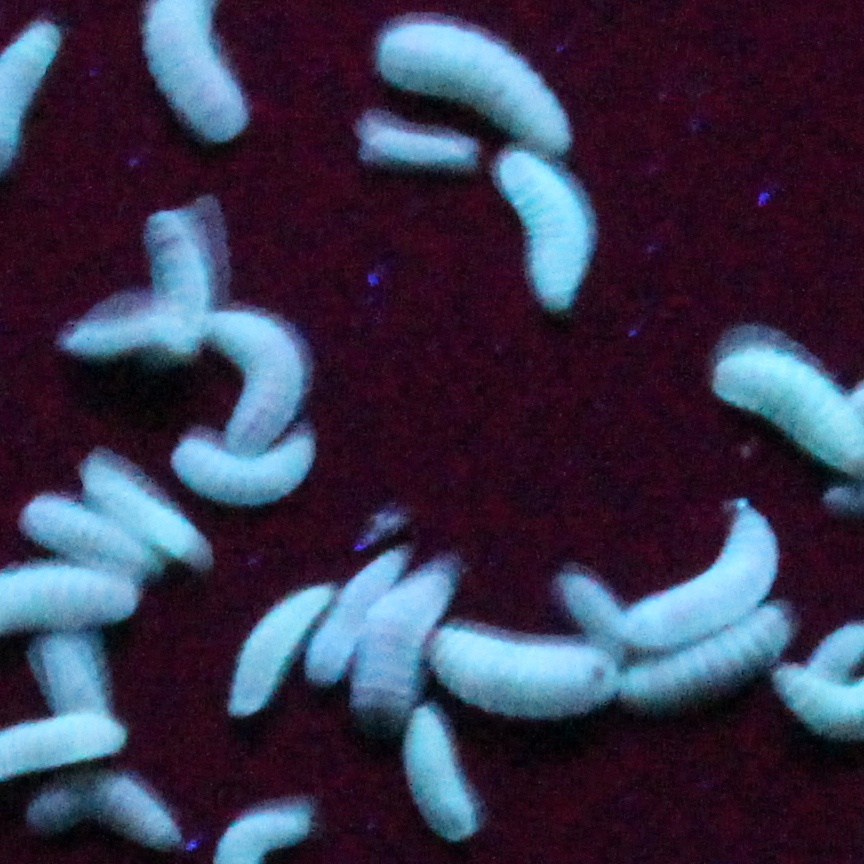larve: (379, 25, 569, 154), (622, 509, 778, 647), (429, 627, 618, 717), (619, 604, 790, 700), (208, 310, 302, 454), (499, 155, 588, 303), (233, 586, 333, 714), (354, 575, 452, 705), (307, 550, 402, 680), (80, 461, 202, 562), (21, 496, 161, 578), (29, 774, 179, 846), (173, 436, 314, 504), (404, 707, 477, 838), (148, 211, 207, 357), (562, 576, 624, 665), (38, 636, 105, 716), (369, 131, 471, 163), (65, 318, 146, 355)
